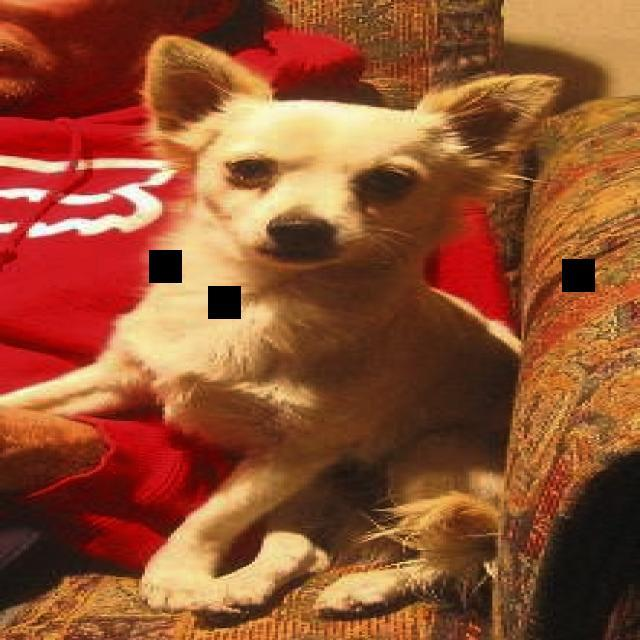adult_dog: (3, 41, 569, 622)
